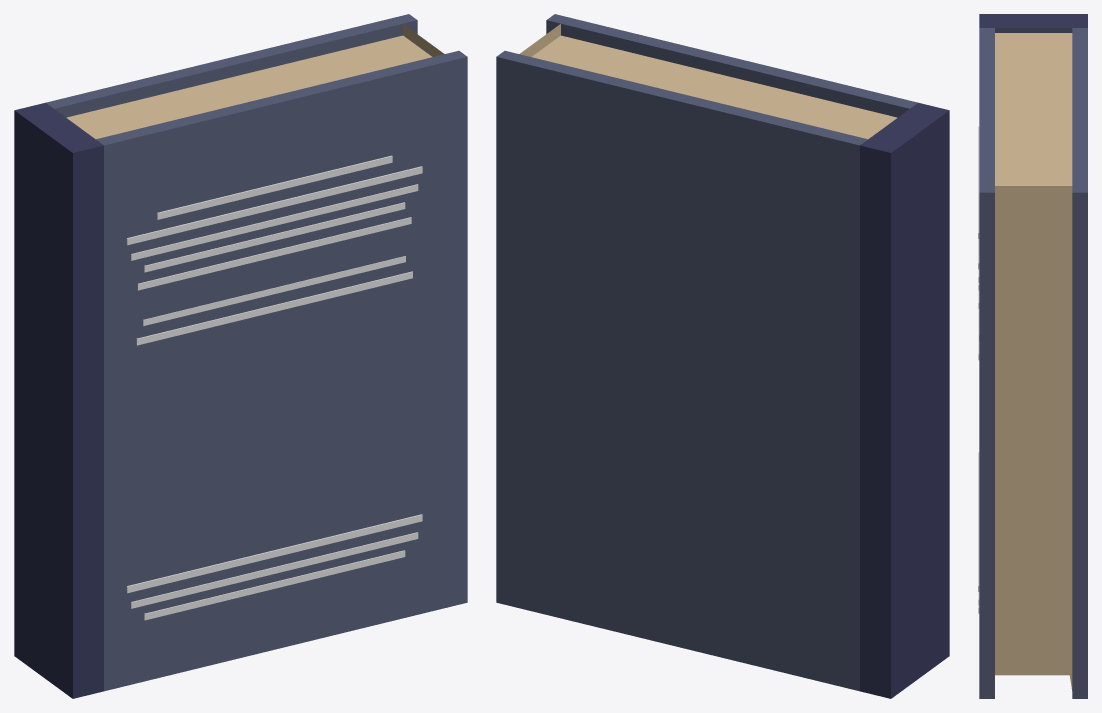
Rendered from book.fbx.
The picture shows the model from 3 angles, left to right: view 1: azimuth 30°, elevation 25°; view 2: azimuth 150°, elevation 25°; view 3: azimuth 270°, elevation 25°; orthographic projection. The views are drawn at different scales.
Parts seen in each view (by area): view 1: Cube.012, Cube.014, Cube.022, Cube.015, Cube.021, Cube.019, Cube.017, Cube.016, Cube.020, Cube.013, Cube.018; view 2: Cube.012; view 3: Cube.012, Cube.022, Cube.013.
Boxes of the visible parts, x1=… form: Cube.012: x1=14, y1=14, x2=467, y2=698; Cube.014: x1=126, y1=166, x2=422, y2=245; Cube.022: x1=126, y1=514, x2=422, y2=593; Cube.015: x1=131, y1=184, x2=418, y2=260; Cube.021: x1=131, y1=532, x2=418, y2=608; Cube.019: x1=136, y1=271, x2=412, y2=345; Cube.017: x1=137, y1=217, x2=411, y2=290; Cube.016: x1=144, y1=202, x2=405, y2=272; Cube.020: x1=144, y1=550, x2=405, y2=620; Cube.013: x1=157, y1=155, x2=392, y2=219; Cube.018: x1=143, y1=256, x2=405, y2=325; Cube.012: x1=496, y1=14, x2=949, y2=698; Cube.012: x1=979, y1=14, x2=1087, y2=698; Cube.022: x1=978, y1=452, x2=979, y2=591; Cube.013: x1=978, y1=126, x2=979, y2=238.
Size of the model in its own units: 203 by 268 by 52.8.
